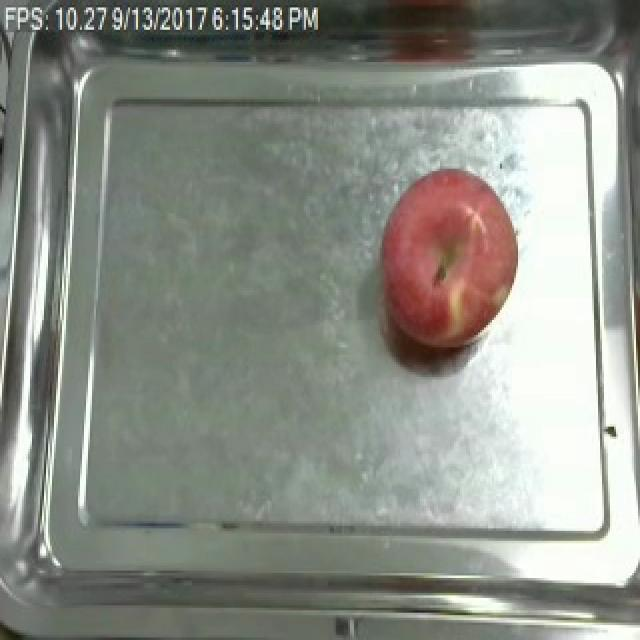apple: (380, 168, 518, 349)
